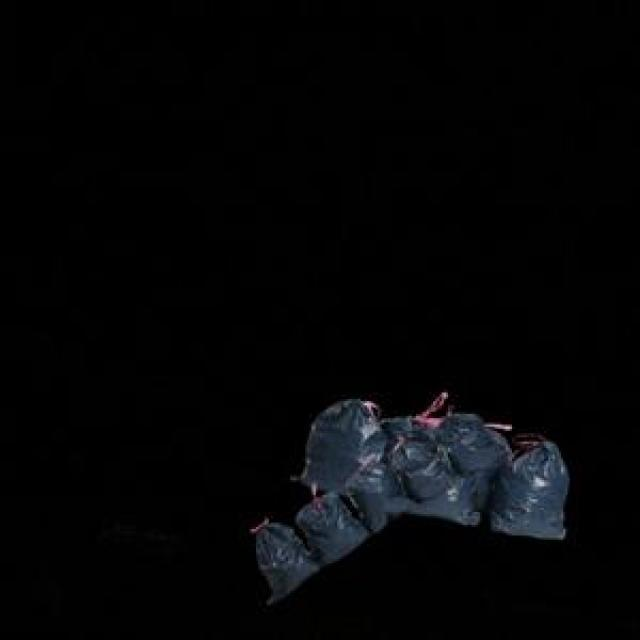Trashbag: (505, 446, 575, 544), (299, 398, 381, 477), (253, 521, 316, 590), (391, 437, 460, 496), (442, 412, 510, 470), (307, 499, 364, 555), (348, 470, 408, 522)
